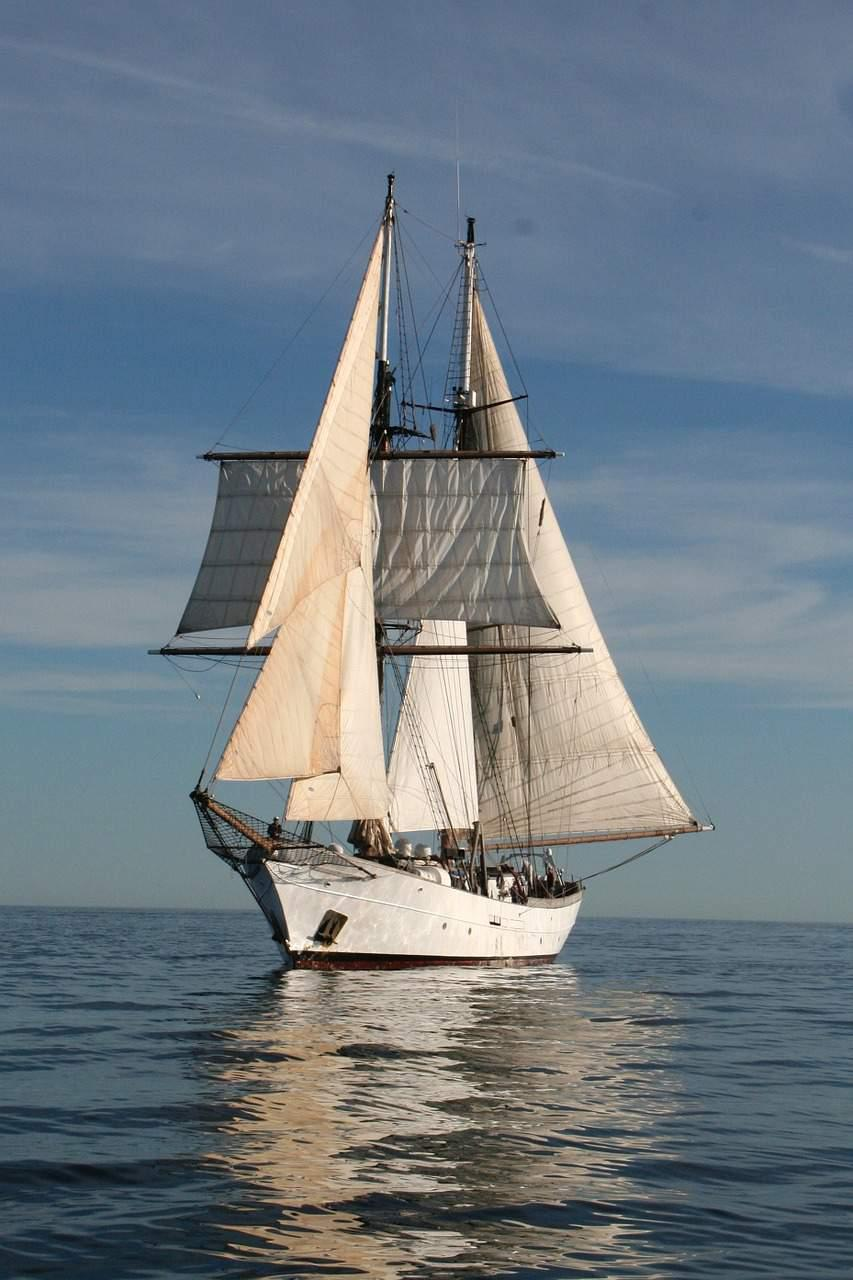Ship: (146, 163, 715, 973)
